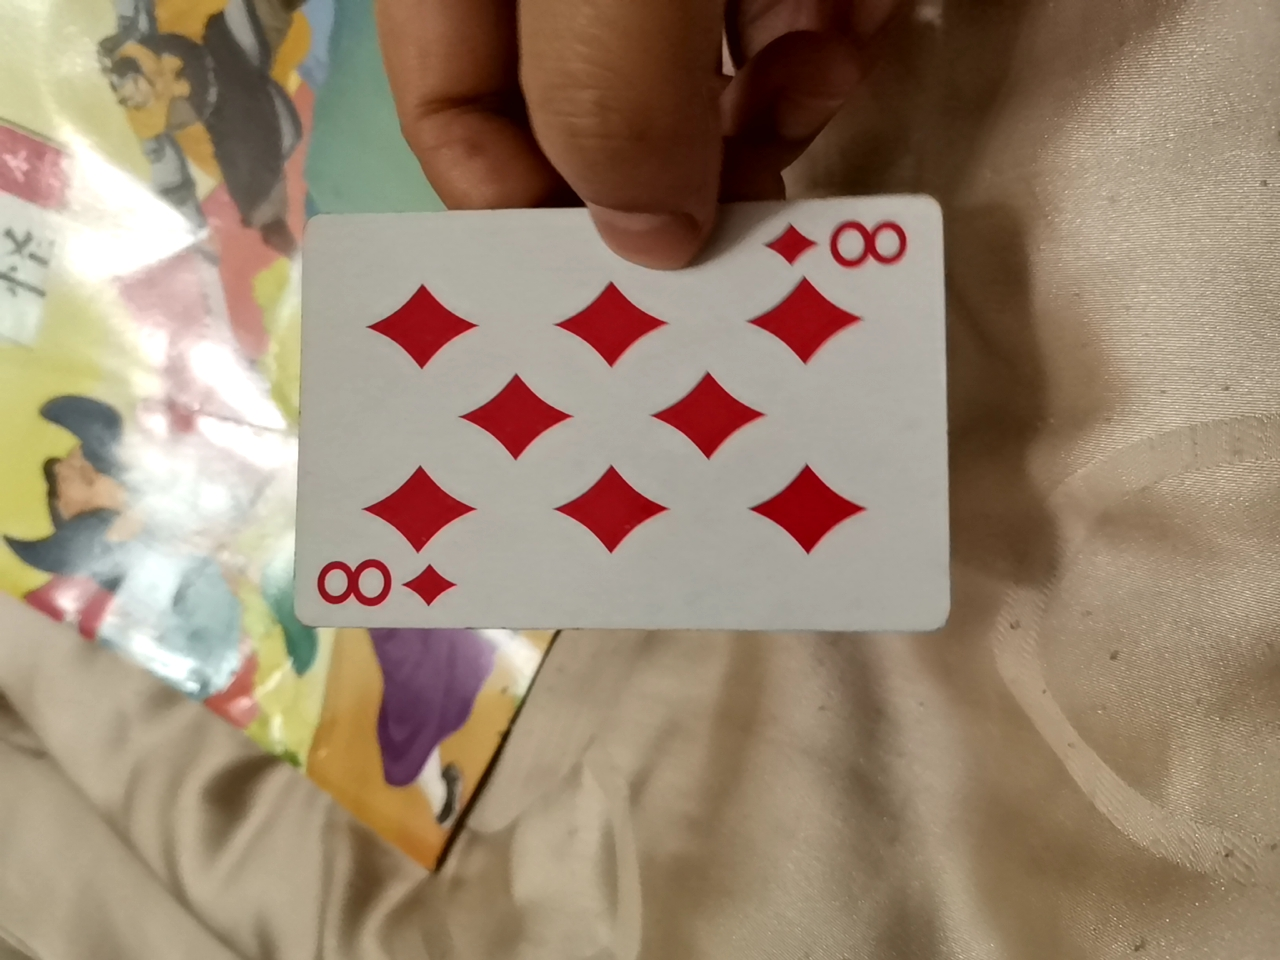fk 8: (315, 160, 965, 669)
